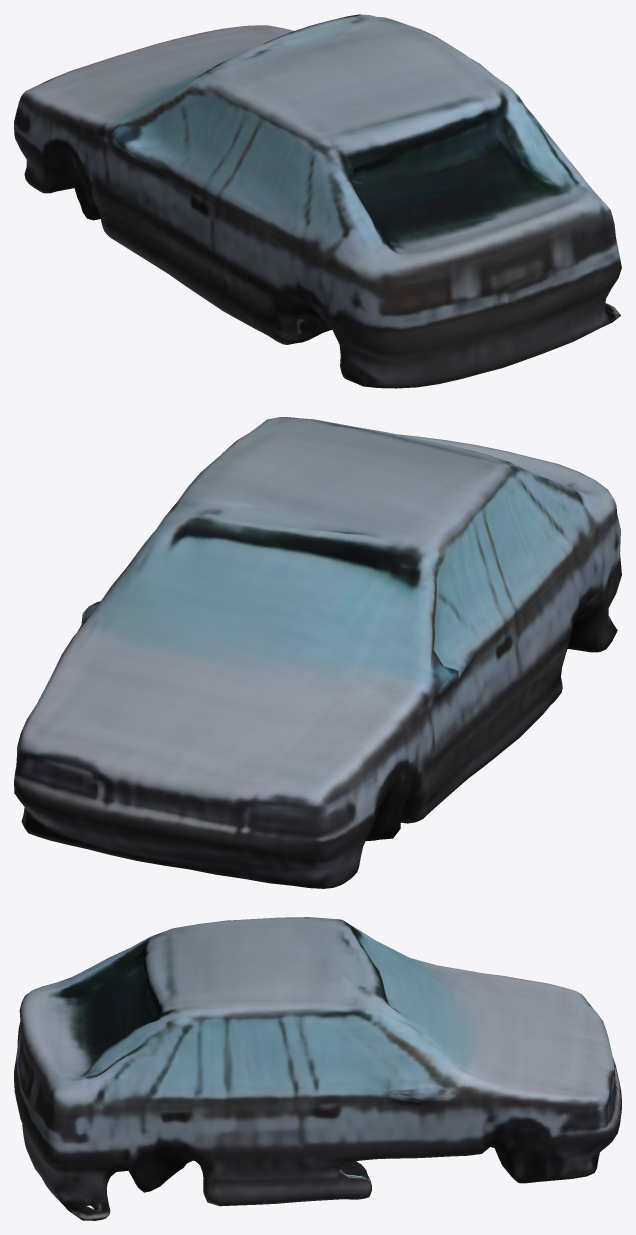
Rendered from abandoned_car05.glb.
3 renders of one model, top to bottom at view 1: azimuth 30°, elevation 25°; view 2: azimuth 150°, elevation 25°; view 3: azimuth 270°, elevation 25°, orthographic. The views are drawn at different scales.
Parts seen in each view (by area): view 1: mesh; view 2: mesh; view 3: mesh.
Part boxes in pixels (bbox=[...]): mesh: bbox=[14, 14, 621, 388]; mesh: bbox=[14, 417, 621, 888]; mesh: bbox=[14, 917, 621, 1220].
Bounding box in the file's own units: 0.5701 × 0.3493 × 0.9993.
Materials: 1 (1 with a texture image).
